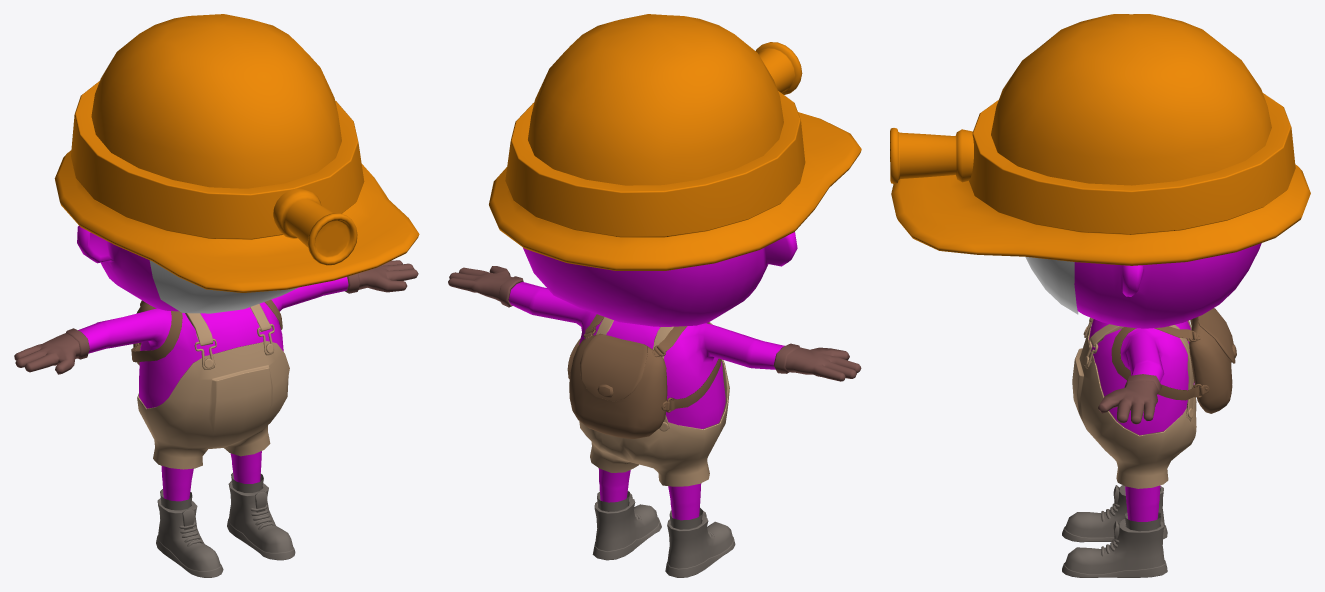
Rendered from Player_low.fbx.
3 renders of one model, left to right at view 1: azimuth 30°, elevation 25°; view 2: azimuth 150°, elevation 25°; view 3: azimuth 270°, elevation 25°, orthographic. The views are drawn at different scales.
Visible parts, largest first — view 1: capacete, cinto_lanterna, Macacao_base, Corpo, lanterna, B_left, B_right, cabeca, face, G_right, G_left, alca; view 2: capacete, cinto_lanterna, cabeca, Corpo, Macacao_base, saco, tampa, B_right, B_left, G_right, G_left, lanterna (+1 smaller); view 3: capacete, cinto_lanterna, cabeca, Macacao_base, Corpo, B_left, lanterna, saco, B_right, G_left, face, alca (+1 smaller).
Part boxes in pixels (<box>): capacete: <box>54,14,419,292</box>; cinto_lanterna: <box>71,81,364,239</box>; Macacao_base: <box>137,304,289,469</box>; Corpo: <box>78,277,348,501</box>; lanterna: <box>273,188,357,265</box>; B_left: <box>227,472,295,560</box>; B_right: <box>156,489,223,577</box>; cabeca: <box>77,226,178,311</box>; face: <box>149,260,298,313</box>; G_right: <box>14,328,89,374</box>; G_left: <box>345,260,418,293</box>; alca: <box>131,299,282,362</box>; capacete: <box>489,14,861,270</box>; cinto_lanterna: <box>505,91,805,237</box>; cabeca: <box>523,232,797,326</box>; Corpo: <box>508,281,784,520</box>; Macacao_base: <box>579,317,729,486</box>; saco: <box>569,333,667,438</box>; tampa: <box>580,334,647,401</box>; B_right: <box>665,508,735,577</box>; B_left: <box>592,491,661,560</box>; G_right: <box>773,343,861,381</box>; G_left: <box>448,266,523,307</box>; lanterna: <box>756,42,802,94</box>; capacete: <box>891,14,1310,265</box>; cinto_lanterna: <box>969,93,1295,234</box>; cabeca: <box>1074,243,1261,328</box>; Macacao_base: <box>1072,317,1196,488</box>; Corpo: <box>1089,319,1194,521</box>; B_left: <box>1062,512,1167,577</box>; lanterna: <box>890,128,973,183</box>; saco: <box>1189,316,1232,413</box>; B_right: <box>1062,485,1167,542</box>; G_left: <box>1098,374,1162,424</box>; face: <box>1025,256,1078,314</box>; alca: <box>1111,326,1209,400</box>.
Size of the model in its own units: 140 by 174 by 126.
